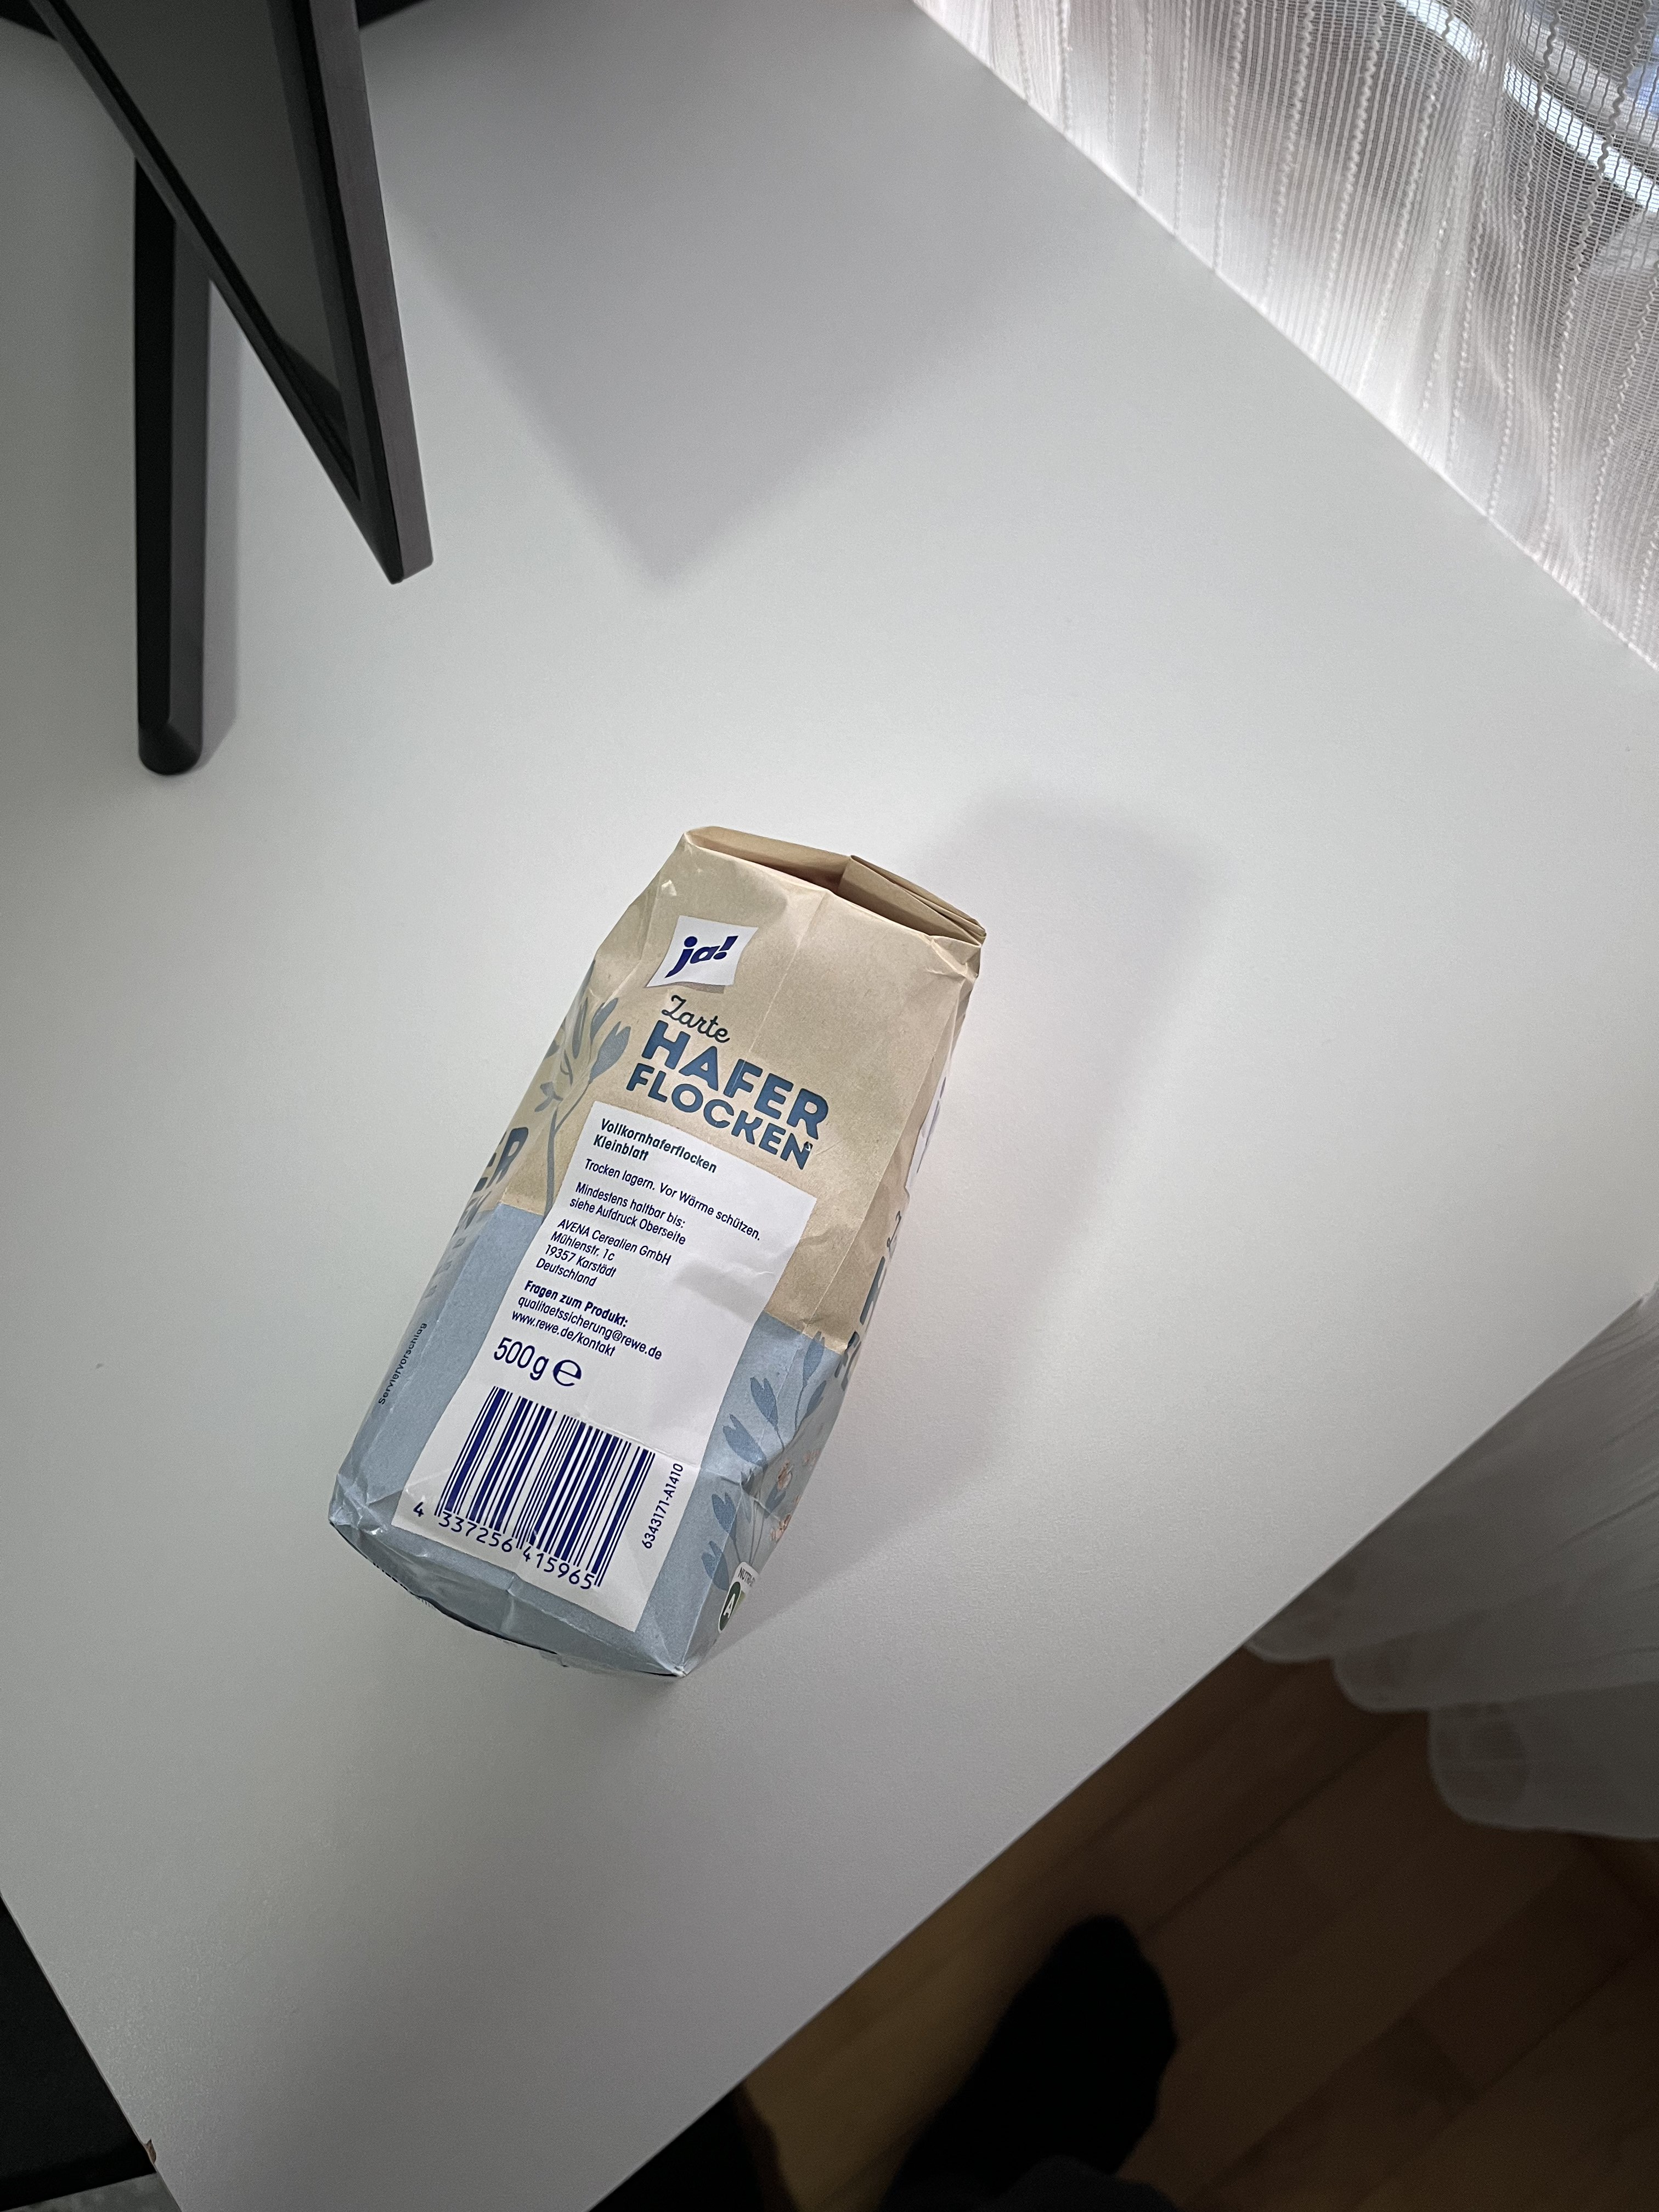haferflocken_ja: (331, 829, 986, 1688)
